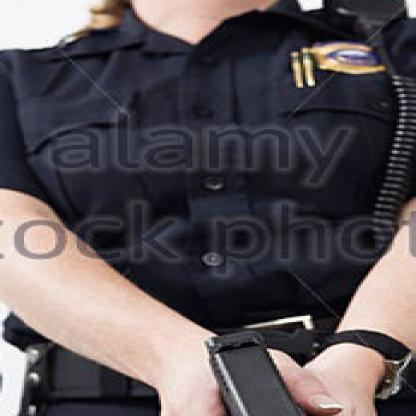gun: (188, 333, 402, 414)
